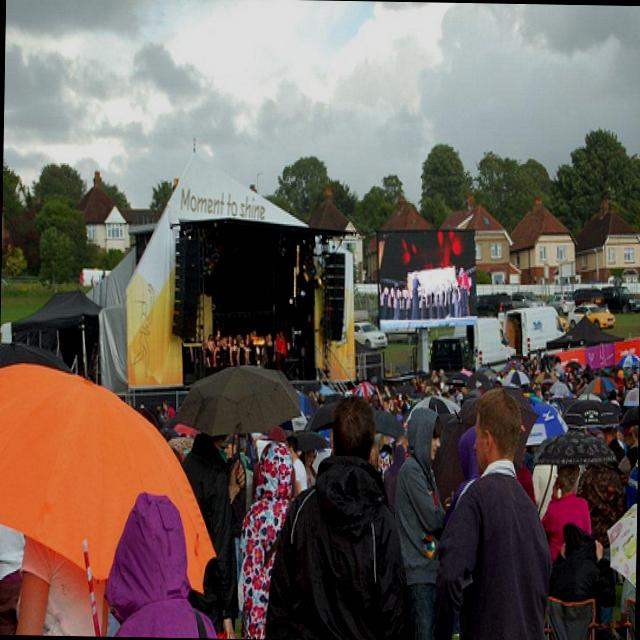Vehicle: (501, 302, 567, 363), (450, 318, 516, 367), (564, 303, 616, 330), (352, 322, 388, 350), (600, 285, 640, 307), (546, 293, 574, 317), (512, 290, 548, 308), (572, 286, 604, 306), (620, 267, 640, 283)
